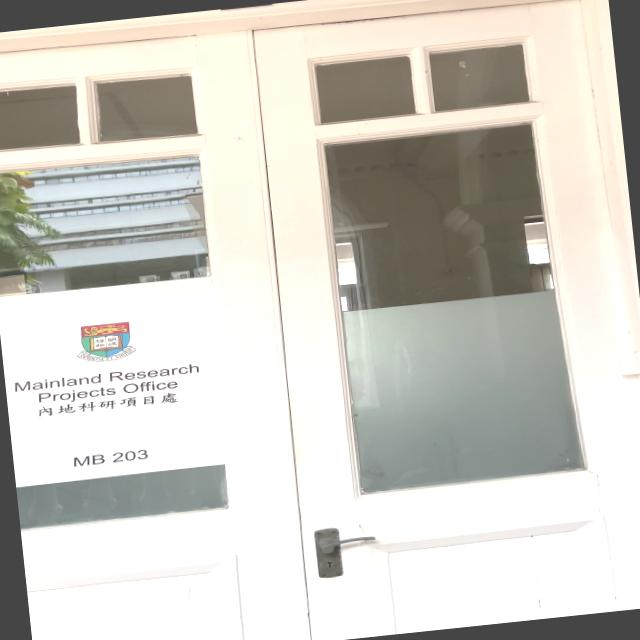room203Window: (61, 440, 156, 474)
